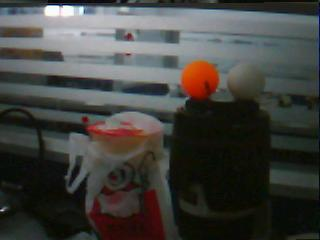oball: (182, 60, 218, 97)
